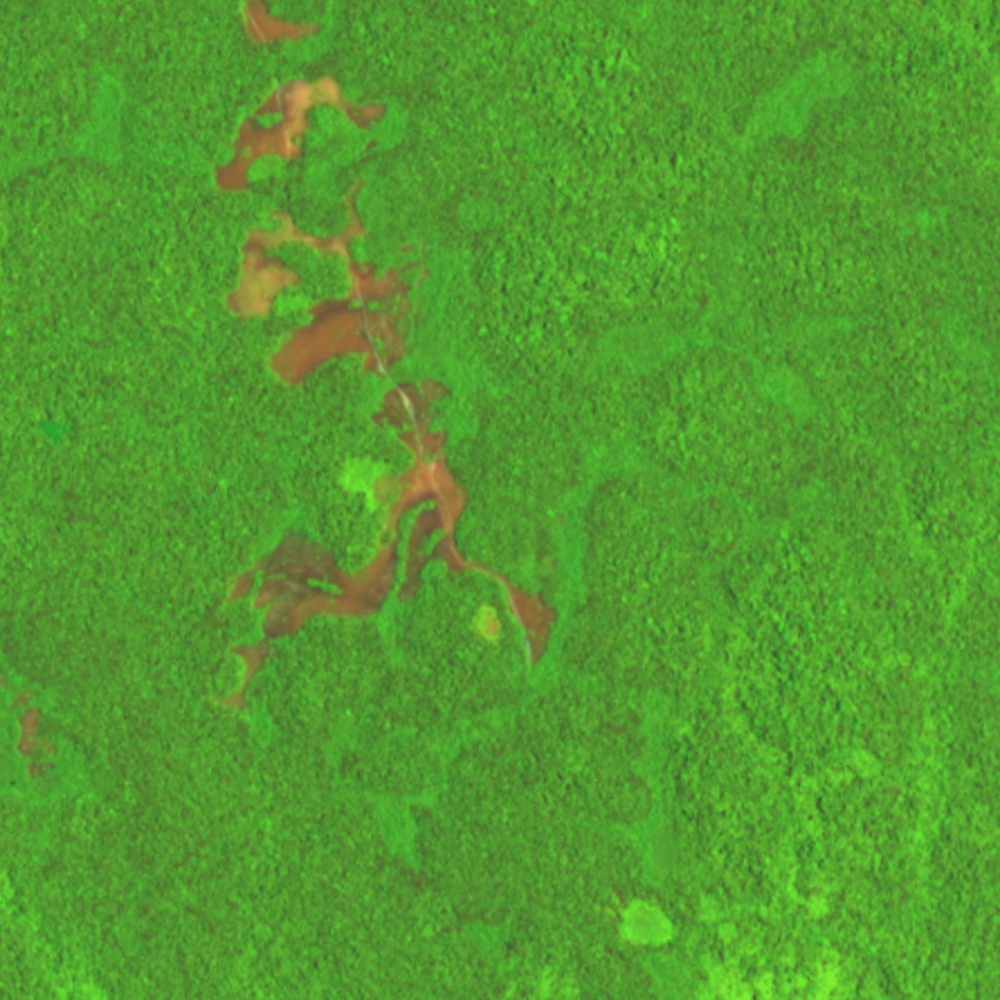legal: (217, 379, 480, 711), (219, 179, 434, 391), (217, 69, 392, 192), (474, 564, 560, 671), (4, 680, 65, 788), (236, 1, 326, 50), (619, 893, 678, 951)
